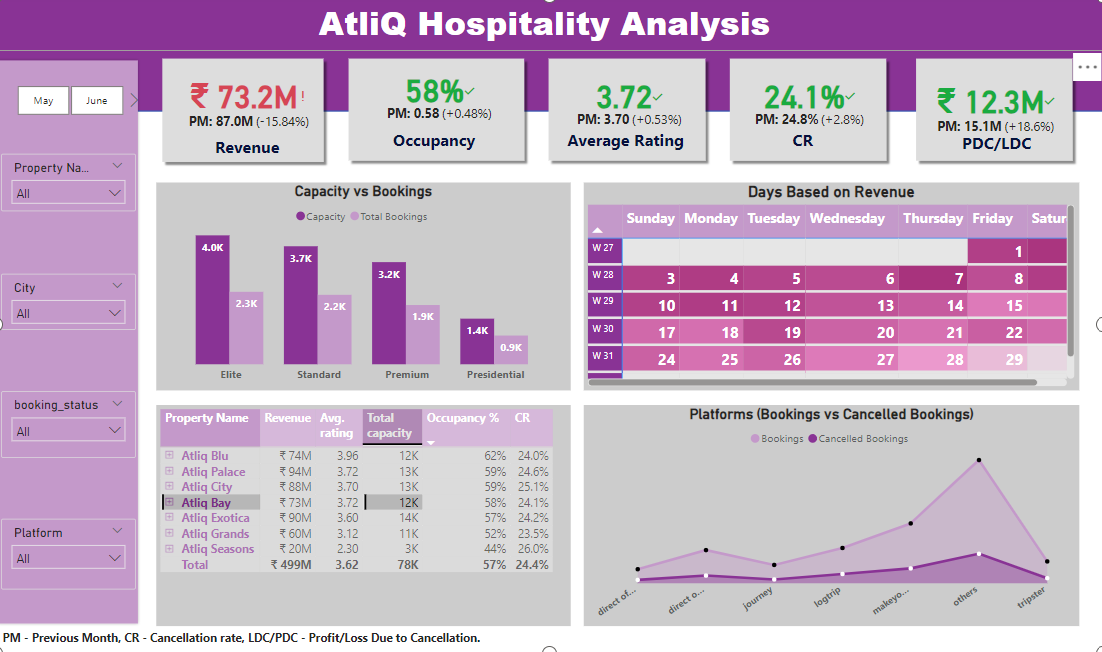

The dashboard page shown, as its layout file describes it:
{"tool":"powerbi","page":{"name":"Monthly","canvas":[1280,760],"ordinal":1},"visuals":[{"type":"group","id":"g1","title":"visuals","box":[0,0,1280,760.7],"z":0},{"type":"textbox","box":[0,727.8,1063.8,32.8],"z":0,"group":"g1"},{"type":"shape","box":[0,0,1280,134.4],"z":1000,"group":"g1"},{"type":"shape","box":[840.8,65.9,194.5,131.9],"z":2000,"group":"g1"},{"type":"shape","box":[631.7,66.7,195,131.7],"z":3000,"group":"g1"},{"type":"shape","box":[186.7,66.7,200,133.3],"z":4000,"group":"g1"},{"type":"shape","box":[401.7,66.7,216.7,131.7],"z":5000,"group":"g1"},{"type":"shape","box":[0,71.7,168.3,656.7],"z":6000,"group":"g1"},{"type":"shape","box":[1056.7,65.9,194.5,131.9],"z":7000,"group":"g1"},{"type":"pivotTable","title":"Days Based on Revenue","fields":{"Rows":["dim_date.week no"],"Values":["Sum(dim_date.DAY)"],"Columns":["Week_day.Weekday"]},"box":[680,216.7,571.7,240],"z":8000,"group":"g1"},{"type":"slicer","fields":{"Values":["dim_date.mmm yy.Variation.Date Hierarchy.Month"]},"box":[0,98.3,171.7,46.7],"z":9000,"group":"g1"},{"type":"kpi","title":"Revenue","fields":{"Indicator":["resource_measures.revenue"],"TrendLine":["dim_date.date.Variation.Date Hierarchy.Month"],"Goal":["resource_measures.revenue LM"]},"box":[204.4,92.3,176.4,62.6],"z":10000,"group":"g1"},{"type":"kpi","fields":{"Indicator":["resource_measures.Occupancy %"],"TrendLine":["dim_date.date.Variation.Date Hierarchy.Month"],"Goal":["resource_measures.Occupancy % LM"]},"box":[426.7,86.7,171.7,66.7],"z":11000,"group":"g1"},{"type":"kpi","fields":{"Goal":["resource_measures.cancellation rate LM"],"TrendLine":["dim_date.date.Variation.Date Hierarchy.Month"],"Indicator":["resource_measures.CR"]},"box":[852.3,90.7,174.8,72.5],"z":12000,"group":"g1"},{"type":"kpi","fields":{"Indicator":["resource_measures.LDC"],"Goal":["resource_measures.LDC LM"],"TrendLine":["dim_date.date.Variation.Date Hierarchy.Month"]},"box":[1068.3,89,174.8,80.8],"z":13000,"group":"g1"},{"type":"kpi","title":"Avg. rating ","fields":{"Indicator":["resource_measures.Avg. rating"],"TrendLine":["dim_date.date.Variation.Date Hierarchy.Month"],"Goal":["resource_measures.avg.rating LM"]},"box":[640,93.3,183.3,66.7],"z":14000,"group":"g1"},{"type":"textbox","box":[1083.1,153.3,145.1,46.2],"z":15000,"group":"g1"},{"type":"textbox","box":[860.6,150,145.1,44.5],"z":16000,"group":"g1"},{"type":"textbox","box":[641.7,150,166.7,50],"z":17000,"group":"g1"},{"type":"textbox","box":[433.6,150,145.1,44.5],"z":18000,"group":"g1"},{"type":"textbox","box":[217.6,156.6,146.7,37.9],"z":19000,"group":"g1"},{"type":"textbox","box":[1.9,0,1278.1,65.6],"z":20000,"group":"g1"},{"type":"slicer","fields":{"Values":["dim_hotels.property_name"]},"box":[6.7,183.3,155,66.7],"z":22000,"group":"g1"},{"type":"slicer","fields":{"Values":["dim_hotels.city"]},"box":[6.7,321.1,155,65],"z":23000,"group":"g1"},{"type":"slicer","fields":{"Values":["fact_bookings.booking_status"]},"box":[6.7,457.2,155,76.7],"z":24000,"group":"g1"},{"type":"slicer","fields":{"Values":["fact_bookings.booking_platform"]},"box":[6.7,605,155,81.7],"z":25000,"group":"g1"},{"type":"lineClusteredColumnComboChart","title":"Capacity vs Bookings ","fields":{"Category":["dim_rooms.room_class"],"Y":["resource_measures.Total capacity","resource_measures.Total sucessful bookings"]},"box":[186.7,216.7,478.3,240],"z":28000,"group":"g1"},{"type":"areaChart","title":"Platforms (Bookings vs Cancelled Bookings)","fields":{"Category":["fact_bookings.booking_platform"],"Y":["resource_measures.Total bookings","_Measures.Total cancelled bookings"]},"box":[680,473.3,571.7,255],"z":29000,"group":"g1"},{"type":"pivotTable","fields":{"Rows":["dim_hotels.property_name","dim_hotels.city"],"Values":["resource_measures.revenue","resource_measures.Avg. rating","resource_measures.Total capacity","resource_measures.Occupancy %","resource_measures.CR"]},"box":[186.7,473.3,478.3,255],"z":30000,"group":"g1"}]}

Visuals, with their boxes on the page's 1280x760 design canvas (x1, y1, x2, y2). These are canvas units, not pixel positions in the 1102x652 screenshot, which may show the page scaled, cropped or inside an application window:
"visuals" group: 0/0/1280/761
textbox: 0/728/1064/761
shape: 0/0/1280/134
shape: 841/66/1035/198
shape: 632/67/827/198
shape: 187/67/387/200
shape: 402/67/618/198
shape: 0/72/168/728
shape: 1057/66/1251/198
"Days Based on Revenue" pivotTable: 680/217/1252/457
slicer - dim_date.mmm yy.Variation.Date Hierarchy.Month: 0/98/172/145
"Revenue" kpi: 204/92/381/155
kpi - resource_measures.Occupancy % x dim_date.date.Variation.Date Hierarchy.Month: 427/87/598/153
kpi - resource_measures.cancellation rate LM x dim_date.date.Variation.Date Hierarchy.Month: 852/91/1027/163
kpi - resource_measures.LDC x resource_measures.LDC LM: 1068/89/1243/170
"Avg. rating " kpi: 640/93/823/160
textbox: 1083/153/1228/200
textbox: 861/150/1006/194
textbox: 642/150/808/200
textbox: 434/150/579/194
textbox: 218/157/364/194
textbox: 2/0/1280/66
slicer - dim_hotels.property_name: 7/183/162/250
slicer - dim_hotels.city: 7/321/162/386
slicer - fact_bookings.booking_status: 7/457/162/534
slicer - fact_bookings.booking_platform: 7/605/162/687
"Capacity vs Bookings " lineClusteredColumnComboChart: 187/217/665/457
"Platforms (Bookings vs Cancelled Bookings)" areaChart: 680/473/1252/728
pivotTable - dim_hotels.property_name x dim_hotels.city: 187/473/665/728
